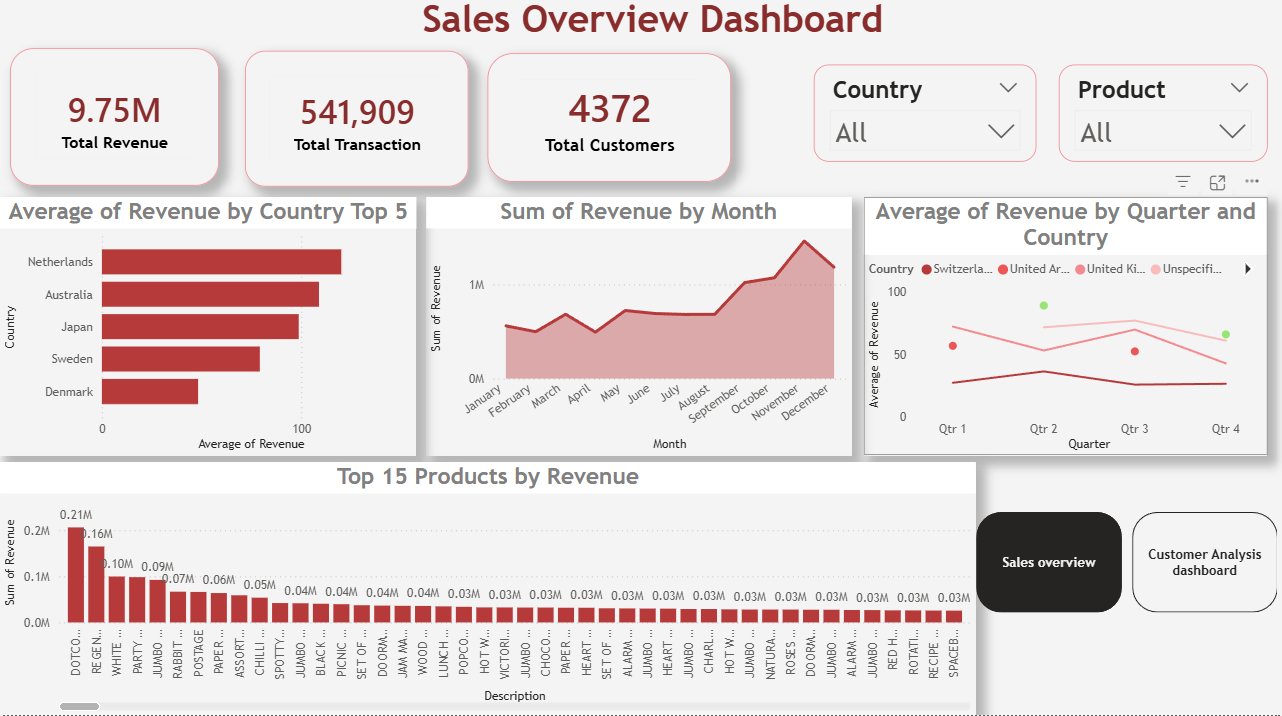

The dashboard page shown, as its layout file describes it:
{"tool":"powerbi","page":{"name":"Sales overview","canvas":[1280,720],"ordinal":0},"visuals":[{"type":"textbox","box":[10,0,1270.1,54.7],"z":0},{"type":"cardVisual","fields":{"Data":["Sum(Retail.Revenue)"]},"box":[10.1,54.8,203.4,125.5],"z":1000},{"type":"cardVisual","fields":{"Data":["CountNonNull(Retail.InvoiceNo)"]},"box":[233.9,54.7,240.1,125.6],"z":2000},{"type":"cardVisual","fields":{"Data":["Retail.# Customer"]},"box":[515,56,240.1,125.6],"z":3000},{"type":"barChart","title":"Average of Revenue by Country Top 5","fields":{"Category":["Retail.Country"],"Y":["Avg(Retail.Revenue)"]},"box":[0,191.9,409.7,269.8],"z":4000},{"type":"areaChart","fields":{"Category":["Retail.InvoiceDate.Variation.Date Hierarchy.Month"],"Y":["Sum(Retail.Revenue)"]},"box":[421.3,191.9,425.6,269.8],"z":5000},{"type":"stackedAreaChart","fields":{"Category":["Retail.InvoiceDate.Variation.Date Hierarchy.Quarter"],"Series":["Retail.Country"],"Y":["Avg(Retail.Revenue)"]},"box":[859.9,191.9,401.1,269.8],"z":6000},{"type":"slicer","fields":{"Values":["Retail.Country"]},"box":[809.8,72.1,220.2,74.6],"z":7000},{"type":"slicer","fields":{"Values":["Retail.Description"]},"box":[1053.6,72.1,207.7,97],"z":8000},{"type":"columnChart","title":"Top 15 Products by Revenue","fields":{"Category":["Retail.Description"],"Y":["Sum(Retail.Revenue)"]},"box":[0,467.5,971,252.5],"z":9000},{"type":"pageNavigator","box":[971,518,300.1,101],"z":10000}]}

Visuals, with their boxes in screenshot pixels (x1, y1, x2, y2), scaled from the page's 1280x720 canvas onto the 1282x716 screenshot:
textbox: crop(10, 0, 1281, 54)
cardVisual - Sum(Retail.Revenue): crop(10, 54, 214, 179)
cardVisual - CountNonNull(Retail.InvoiceNo): crop(234, 54, 475, 179)
cardVisual - Retail.# Customer: crop(516, 56, 756, 181)
"Average of Revenue by Country Top 5" barChart: crop(0, 191, 410, 459)
areaChart - Retail.InvoiceDate.Variation.Date Hierarchy.Month x Sum(Retail.Revenue): crop(422, 191, 848, 459)
stackedAreaChart - Retail.InvoiceDate.Variation.Date Hierarchy.Quarter x Retail.Country: crop(861, 191, 1263, 459)
slicer - Retail.Country: crop(811, 72, 1032, 146)
slicer - Retail.Description: crop(1055, 72, 1263, 168)
"Top 15 Products by Revenue" columnChart: crop(0, 465, 973, 715)
pageNavigator: crop(973, 515, 1273, 616)
